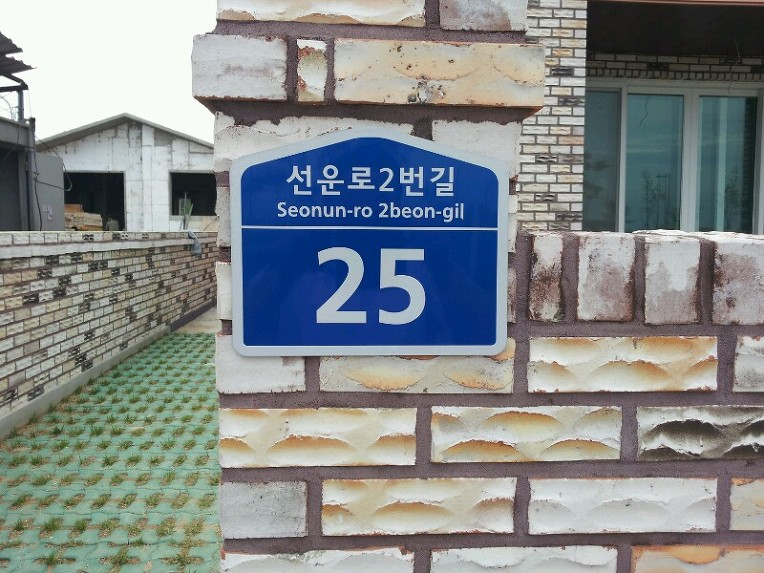building_license_plate1: (230, 128, 510, 355)
